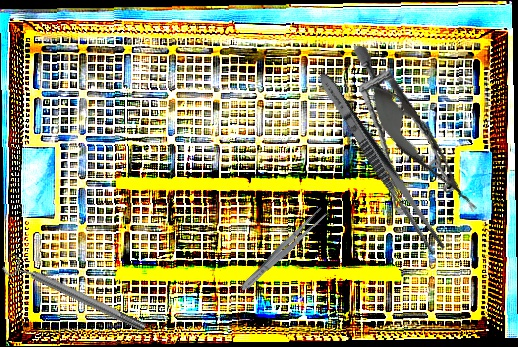Dressing Forceps: (312, 68, 449, 257), (237, 205, 329, 295)
Fixation Ring: (0, 250, 150, 340)
Micro Scissor: (355, 72, 492, 224)
Speculum: (329, 45, 477, 223)
